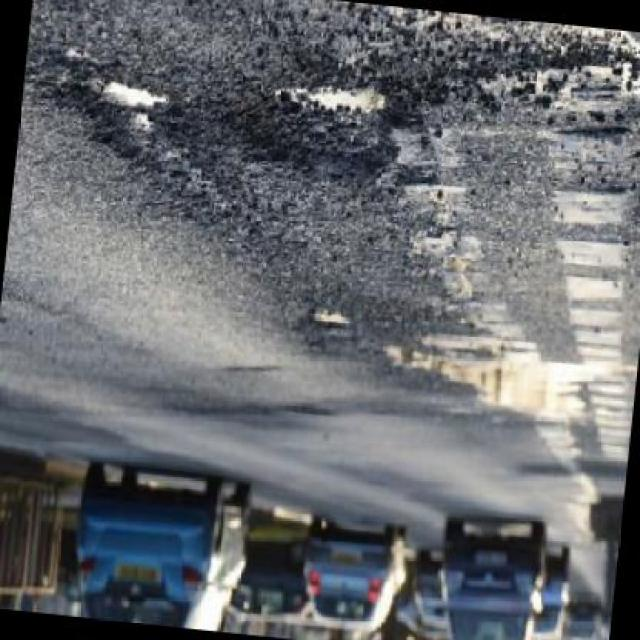pothole1: (244, 73, 402, 178), (54, 74, 184, 178), (307, 306, 351, 334)
